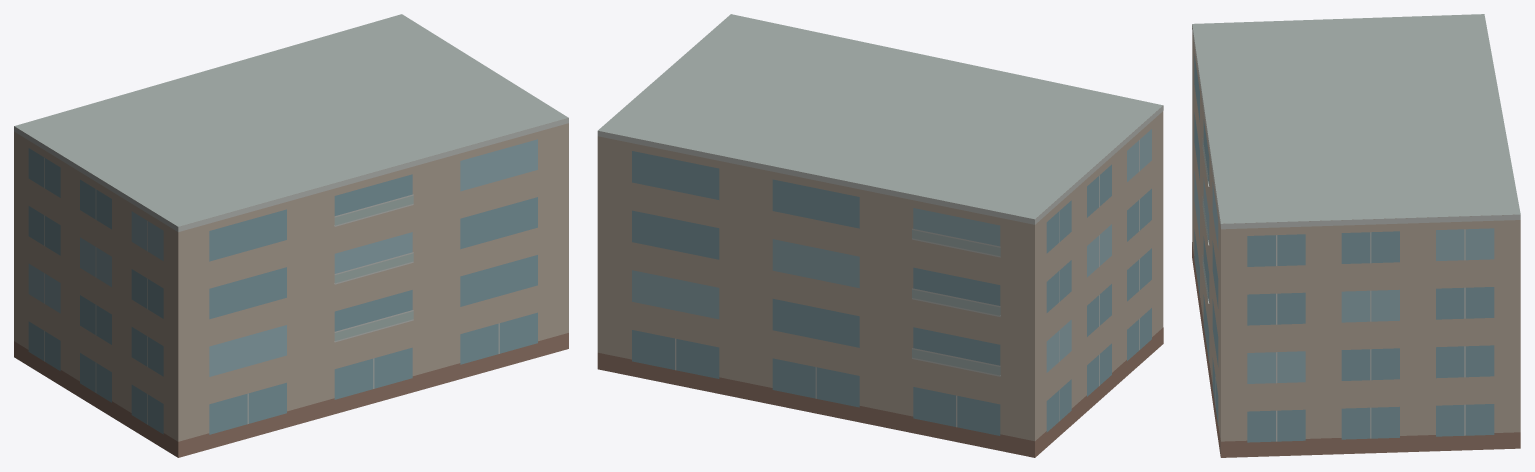
File: survey-upis-32755818.glb
The picture shows the model from 3 angles, left to right: view 1: azimuth 30°, elevation 25°; view 2: azimuth 150°, elevation 25°; view 3: azimuth 270°, elevation 25°; orthographic projection. The views are drawn at different scales.
Parts seen in each view (by area): view 1: survey-upis-32755818.tmp; view 2: survey-upis-32755818.tmp; view 3: survey-upis-32755818.tmp.
Part boxes in pixels (x1,y1,x2,y2): survey-upis-32755818.tmp: (14,14,568,457); survey-upis-32755818.tmp: (597,14,1163,457); survey-upis-32755818.tmp: (1192,14,1520,457).
Bounding box in the file's own units: 20.2 × 10.5 × 13.37.
